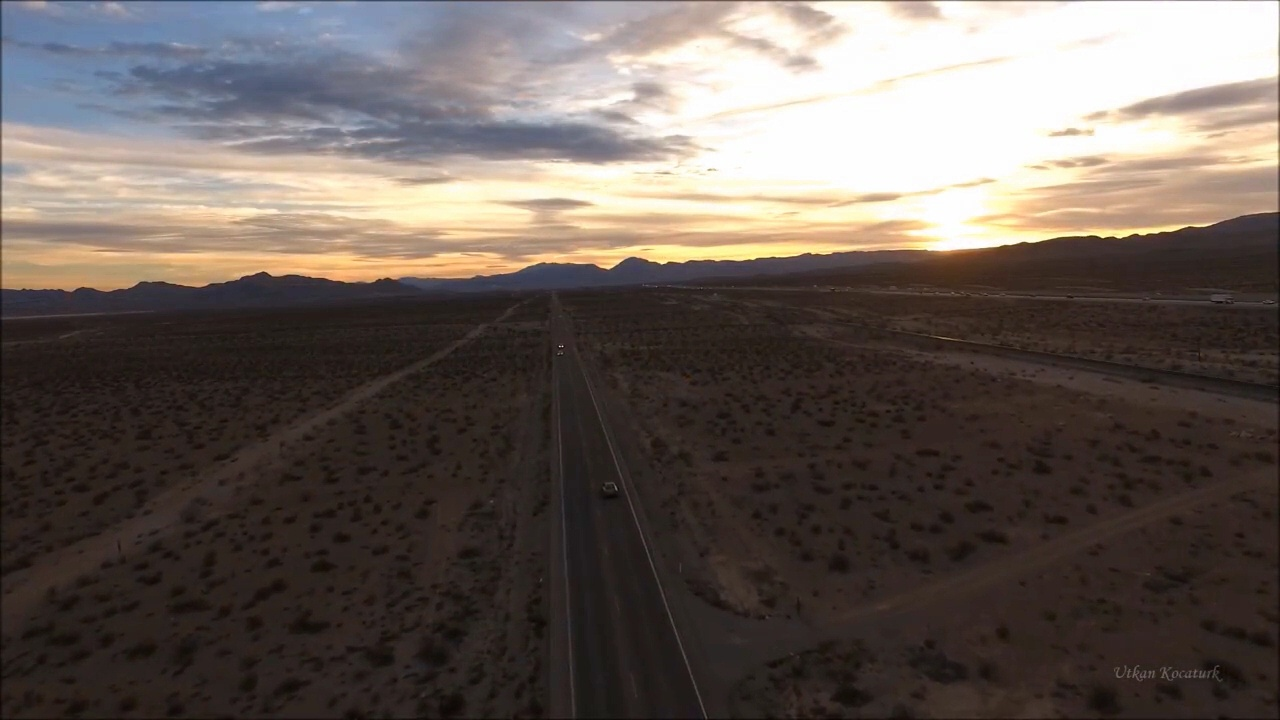araba: (599, 478, 618, 496)
